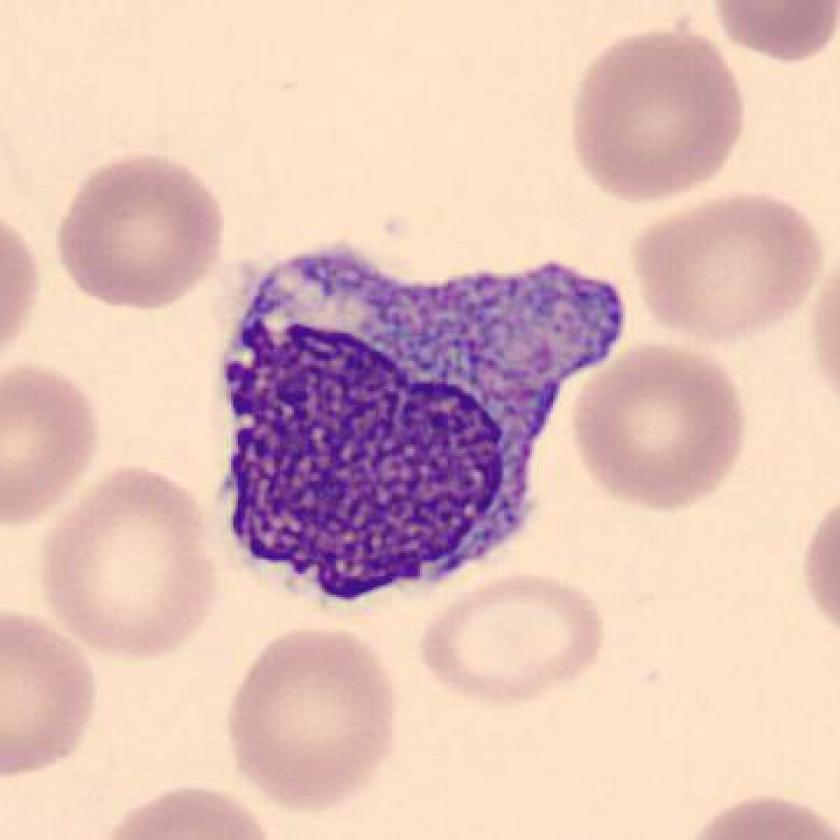monocyte: (206, 232, 636, 619)
